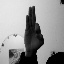f: (24, 5, 45, 51)
